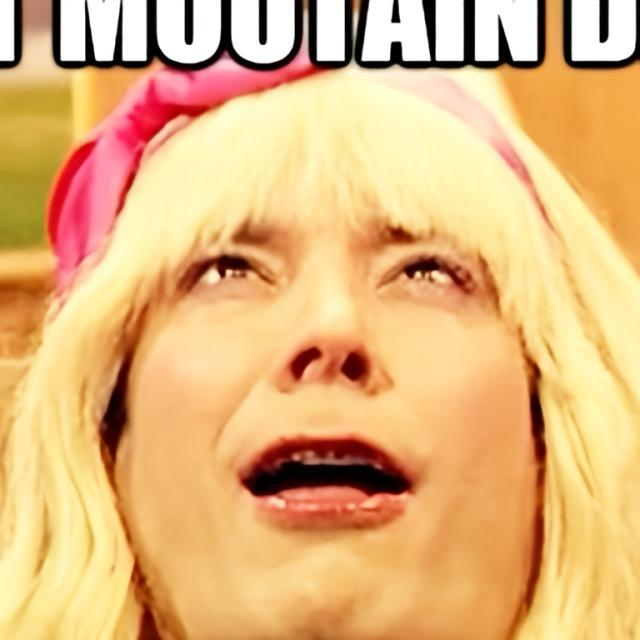disgust: (117, 147, 541, 640)
